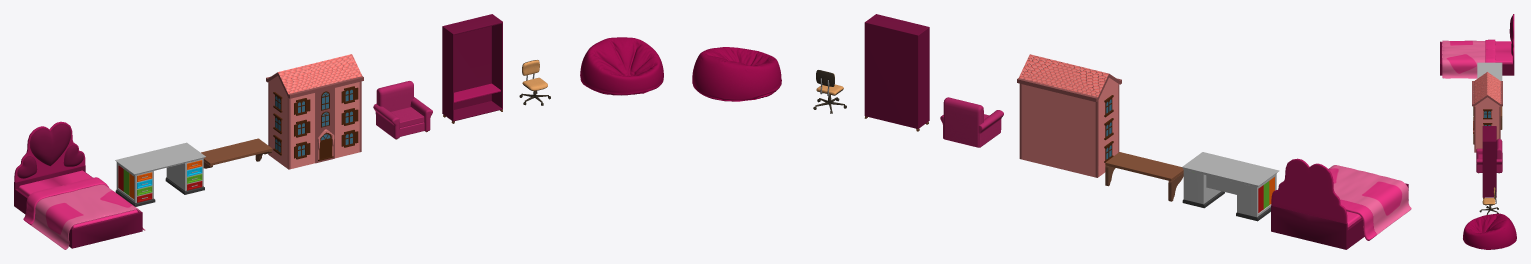
File: Pillow_Fight.fbx
3 views of the same model, side by side, from view 1: azimuth 30°, elevation 25°; view 2: azimuth 150°, elevation 25°; view 3: azimuth 270°, elevation 25° (orthographic). The views are drawn at different scales.
Visible parts, largest first — view 1: Box067.006, American Girl Doll House, Cube.003, Cube.004, Office table.001, tocut.003, Plane.001, UpDown; view 2: American Girl Doll House, Box067.006, Cube.003, Office table.001, Cube.004, tocut.003, Plane.001, UpDown; view 3: Box067.006, American Girl Doll House, Cube.004, Cube.003, tocut.003, Office table.001, UpDown, Plane.001.
Part boxes in pixels (x1,y1,x2,y2): Box067.006: (14, 121, 145, 249); American Girl Doll House: (266, 54, 363, 169); Cube.003: (442, 14, 502, 123); Cube.004: (580, 37, 663, 95); Office table.001: (115, 142, 205, 206); tocut.003: (373, 81, 432, 139); Plane.001: (201, 138, 272, 168); UpDown: (519, 60, 550, 105); American Girl Doll House: (1017, 54, 1121, 177); Box067.006: (1271, 158, 1411, 249); Cube.003: (864, 14, 929, 131); Office table.001: (1182, 152, 1279, 221); Cube.004: (692, 47, 781, 101); tocut.003: (940, 97, 1003, 147); Plane.001: (1105, 152, 1183, 201); UpDown: (813, 70, 846, 113); Box067.006: (1440, 14, 1514, 78); American Girl Doll House: (1472, 72, 1502, 152); Cube.004: (1463, 213, 1516, 249); Cube.003: (1482, 126, 1496, 199); tocut.003: (1476, 138, 1502, 173); Office table.001: (1477, 62, 1502, 80); UpDown: (1479, 187, 1498, 214); Plane.001: (1500, 106, 1502, 129).
Bounding box in the file's own units: 248 × 1507 × 215.
